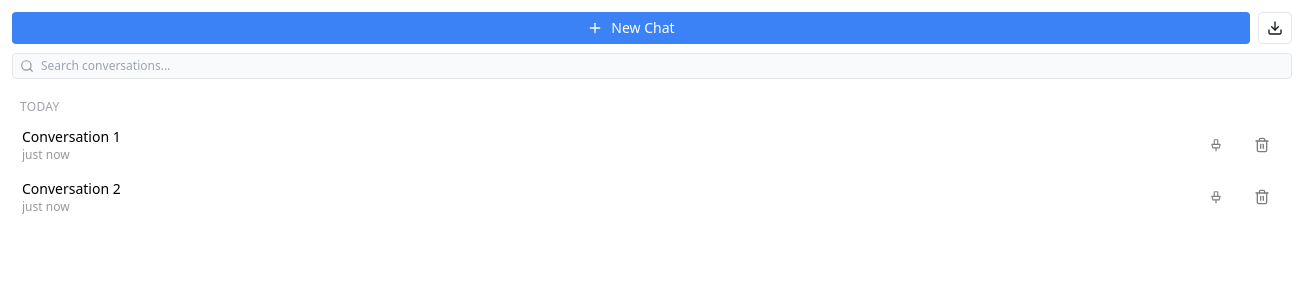
Test: Global Search › displays search results in dropdown
The image size is (1304, 297).
Type "keyword" into the field with test id "conversation-search".
click(652, 66); type("keyword")  # box [12,53,1292,79]
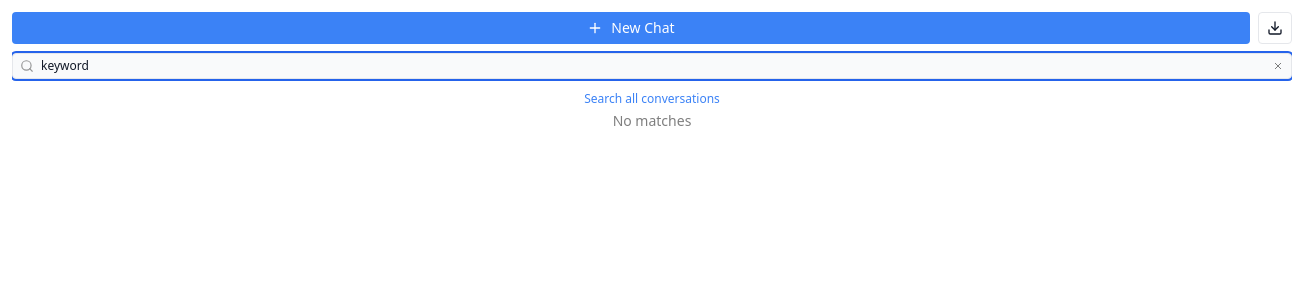
Now the button with test id "global-search-button" is shown
Click the button with test id "global-search-button".
click(652, 99)  # box [12,87,1292,111]
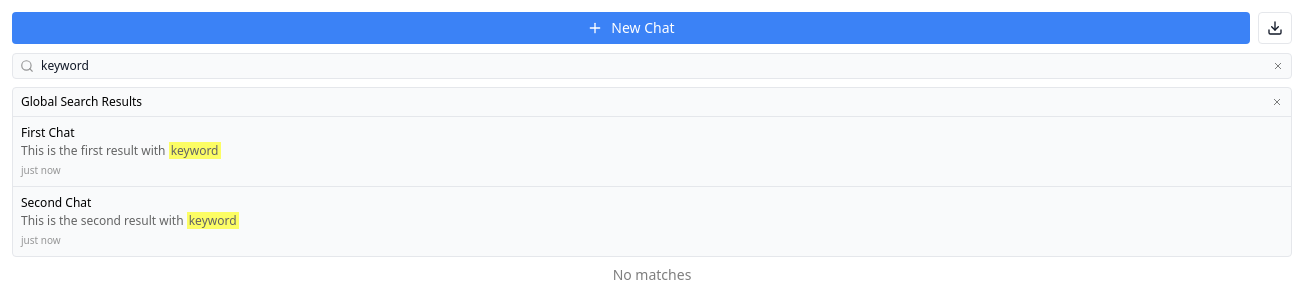
Now the element with test id "global-search-results" is shown, box [12,87,1292,257]
Now the number of buttons with test id "global-search-result" is 2, box [13,117,1291,186]; [13,186,1291,256]
Now the text "First Chat" is shown, box [21,124,74,141]
